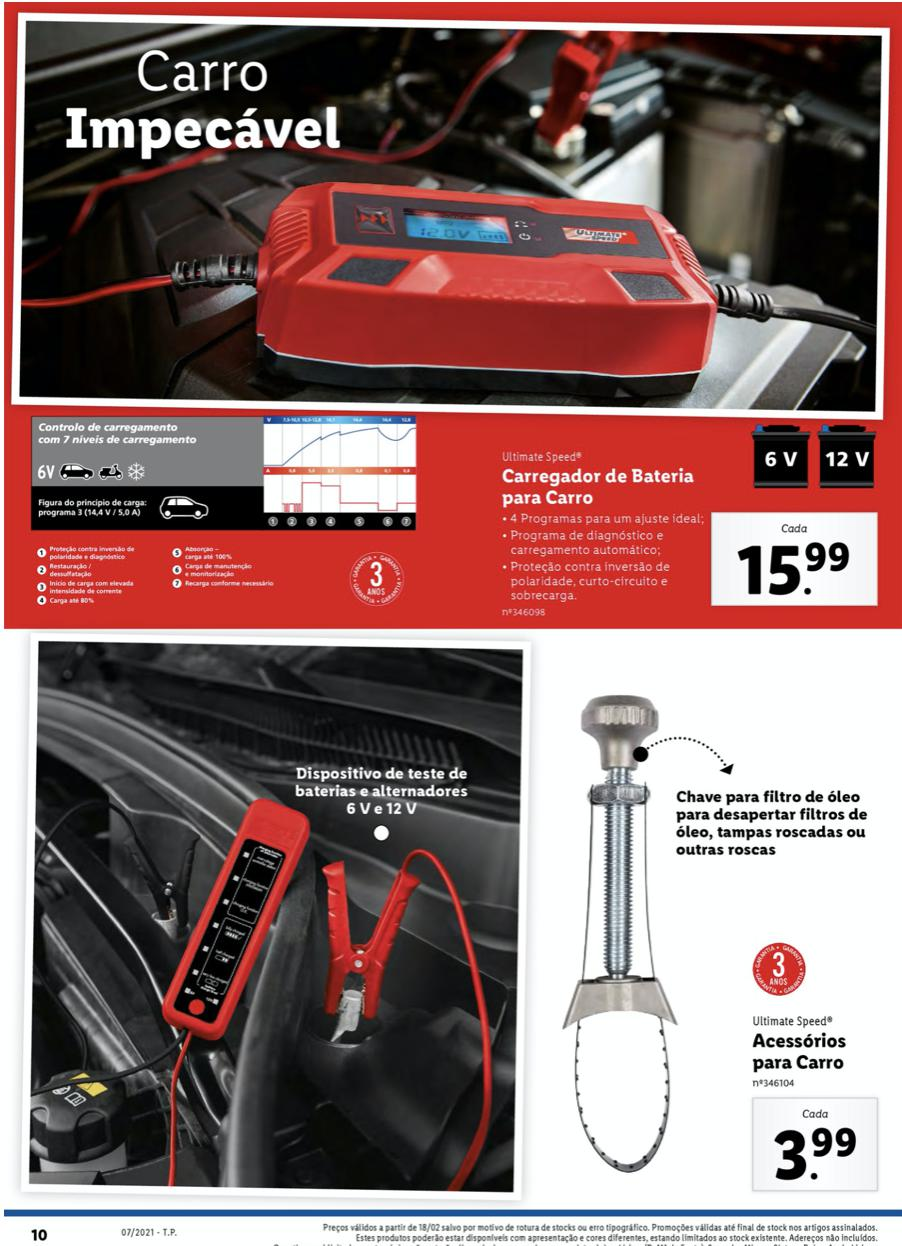name: (497, 464, 700, 508), (745, 1034, 852, 1076)
price: (734, 534, 857, 596), (771, 1118, 871, 1184)
product: (19, 10, 889, 621), (20, 650, 889, 1204)
